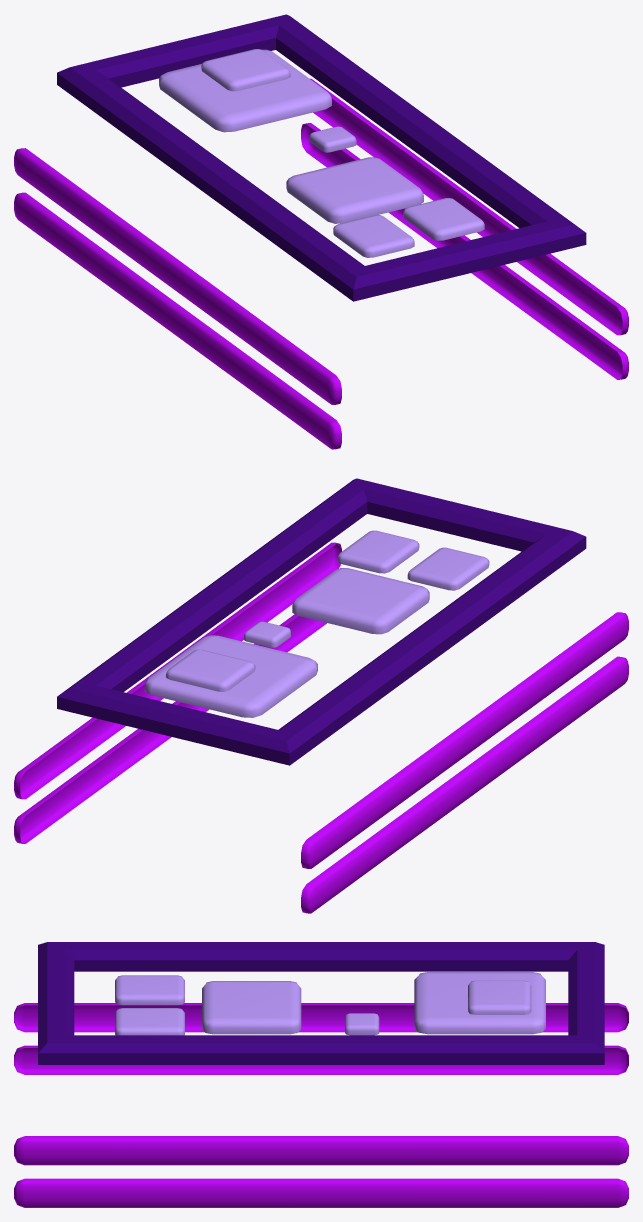
Rendered from wall_deco1.fbx.
The picture shows the model from 3 angles, top to bottom: view 1: azimuth 30°, elevation 25°; view 2: azimuth 150°, elevation 25°; view 3: azimuth 270°, elevation 25°; orthographic projection. The views are drawn at different scales.
Visible parts, largest first — view 1: wall_deco1; view 2: wall_deco1; view 3: wall_deco1.
Boxes of the visible parts, box(x1,y1,x2,y2) form: wall_deco1: box(14, 14, 628, 449); wall_deco1: box(14, 478, 628, 913); wall_deco1: box(14, 942, 628, 1207).
Size of the model in its own units: 320 by 166 by 596.
